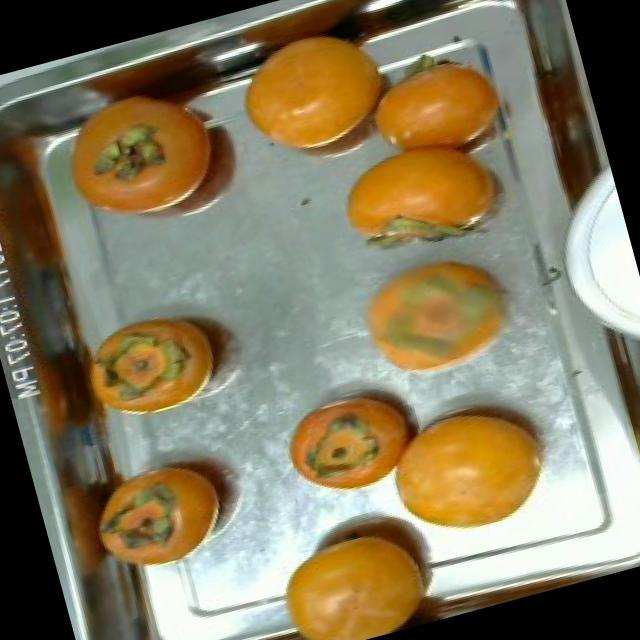Fruit: (28, 52, 288, 267), (211, 9, 428, 196), (329, 220, 543, 405), (360, 377, 570, 562), (247, 485, 470, 640), (343, 30, 532, 195), (71, 432, 259, 593), (70, 283, 257, 443), (263, 366, 444, 518)
